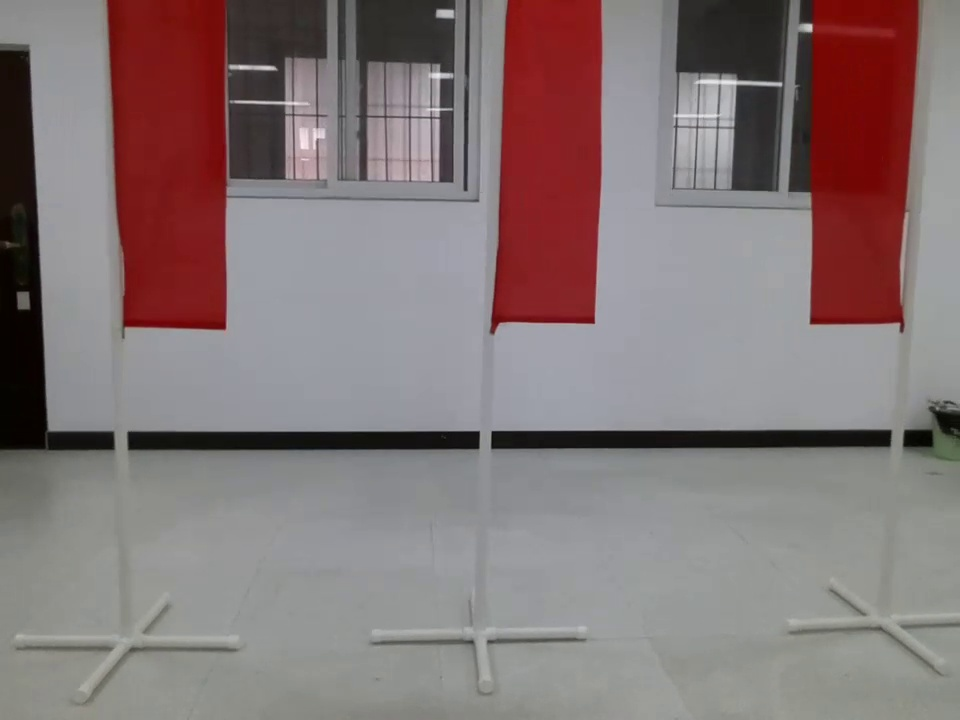qi: (96, 1, 235, 338), (479, 1, 612, 338), (797, 1, 922, 332)
